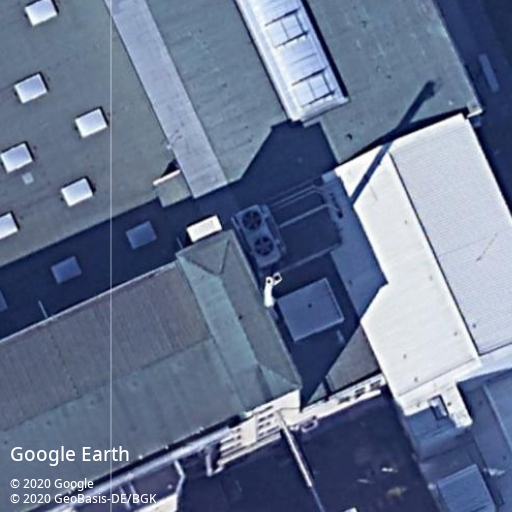Vent: (242, 209, 263, 231), (253, 236, 274, 257)
